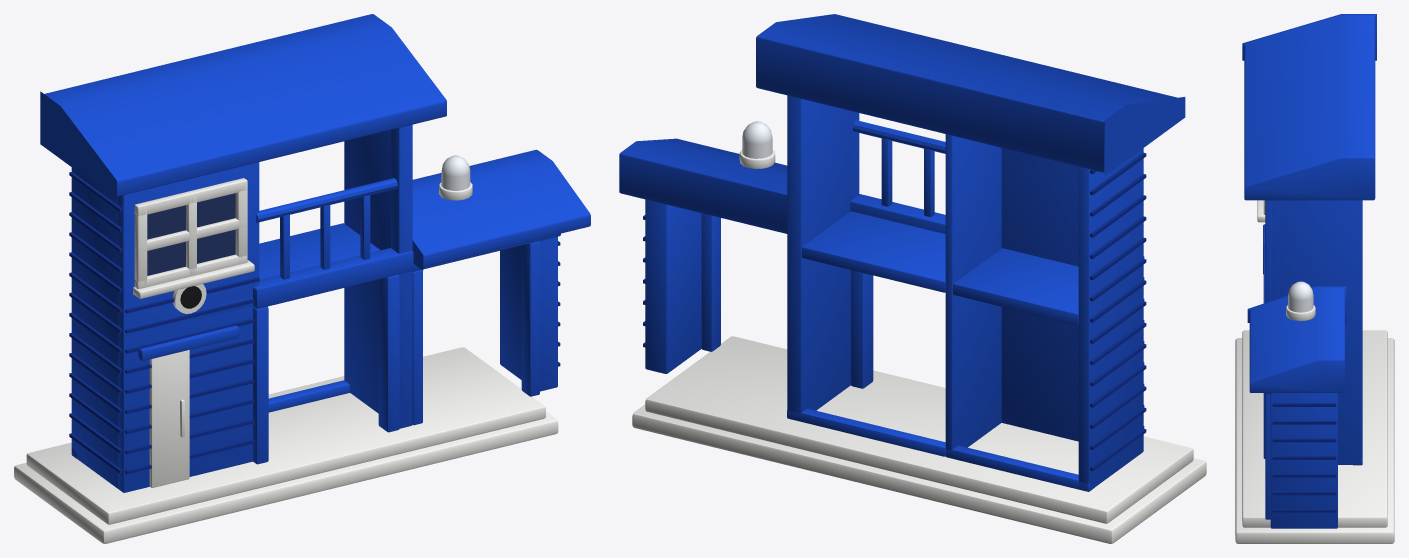
The model's file is polizeiwache.glb.
The picture shows the model from 3 angles, left to right: view 1: azimuth 30°, elevation 25°; view 2: azimuth 150°, elevation 25°; view 3: azimuth 270°, elevation 25°; orthographic projection. The views are drawn at different scales.
Parts seen in each view (by area): view 1: polizeiwache; view 2: polizeiwache; view 3: polizeiwache.
Boxes of the visible parts, left/top/right/bottom form: polizeiwache: left=14, top=14, right=590, bottom=543; polizeiwache: left=619, top=14, right=1206, bottom=543; polizeiwache: left=1235, top=14, right=1394, bottom=543.
Size of the model in its own units: 7.96 by 6 by 2.52.
